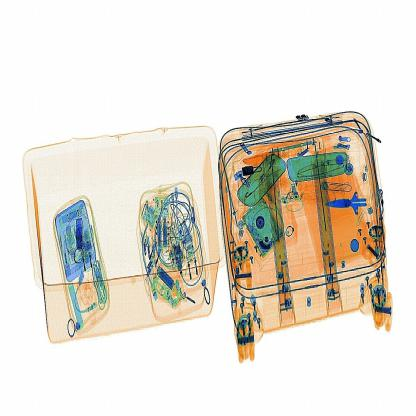gun: (320, 185, 374, 230)
